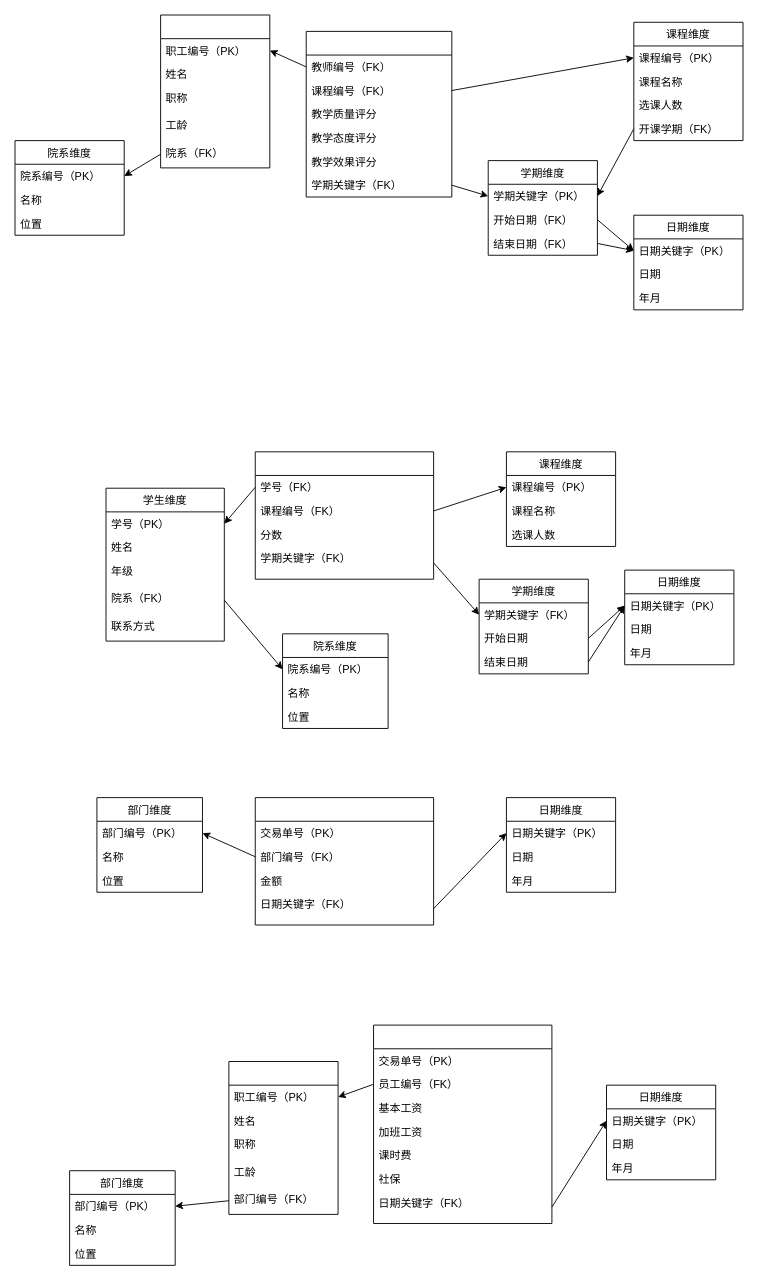
Image size: 758x1280. Some labels were removed from this diagram. Each missing label, with the box of its shape:
工资表: (373, 1024, 552, 1223)
成绩事实表: (254, 451, 434, 579)
教学评估事实表: (305, 30, 452, 197)
教师维度: (160, 14, 270, 168)
职工维度: (228, 1061, 338, 1214)
财务交易表: (254, 797, 434, 925)
